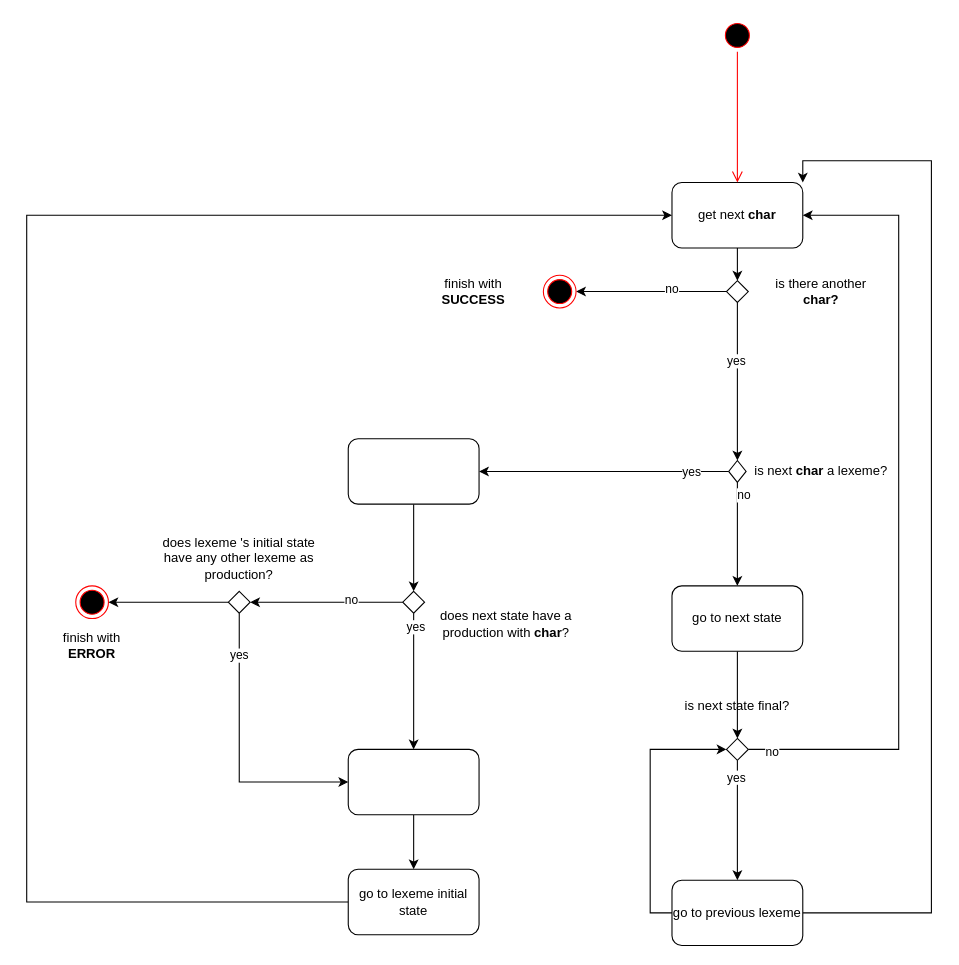
The diagram is 959 pixels wide and 965 high, and some of its shapes have lost their labels. The shapes that lost their labels are listed below. From the top down, each one's box as (x1, y1, x2, y2) in pixels, then its label:
(347, 438, 479, 504): get lexeme initial state's productions
(347, 748, 479, 815): add lexeme to list of found lexemes
